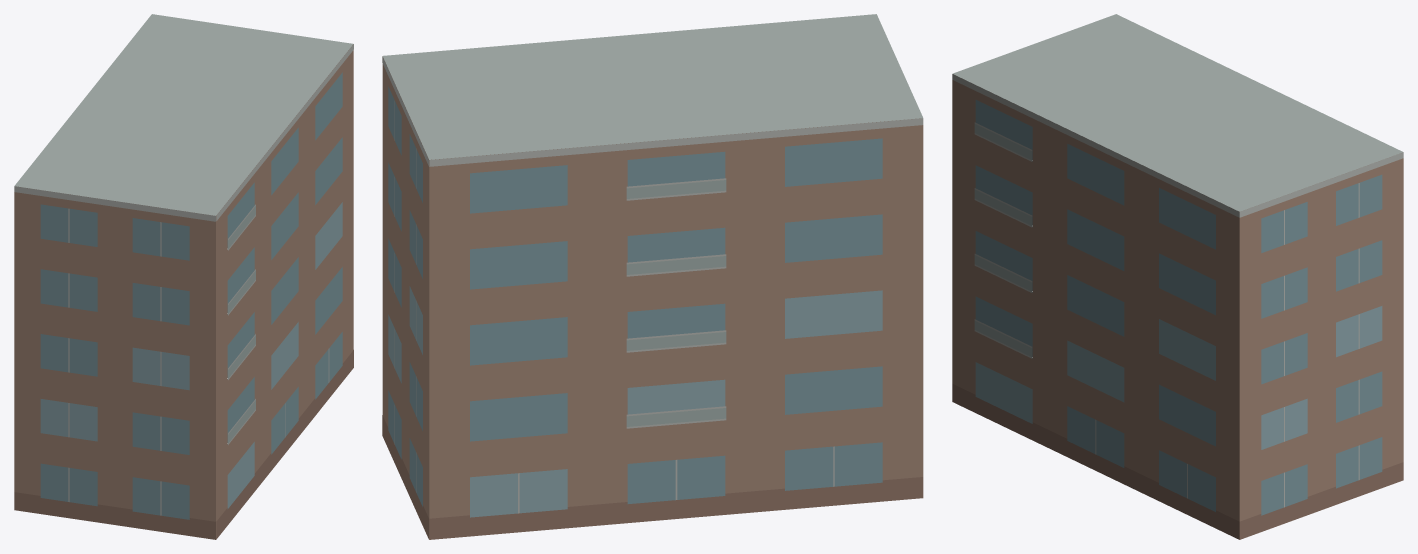
File: survey-upis-32626707.glb
3 renders of one model, left to right at view 1: azimuth 30°, elevation 25°; view 2: azimuth 150°, elevation 25°; view 3: azimuth 270°, elevation 25°, orthographic. The views are drawn at different scales.
Visible parts, largest first — view 1: survey-upis-32626707.tmp; view 2: survey-upis-32626707.tmp; view 3: survey-upis-32626707.tmp.
Part boxes in pixels (x1,y1,x2,y2): survey-upis-32626707.tmp: (14,14,353,539); survey-upis-32626707.tmp: (382,14,923,539); survey-upis-32626707.tmp: (952,14,1403,539).
Size of the model in its own units: 17.27 by 13.35 by 16.66.
